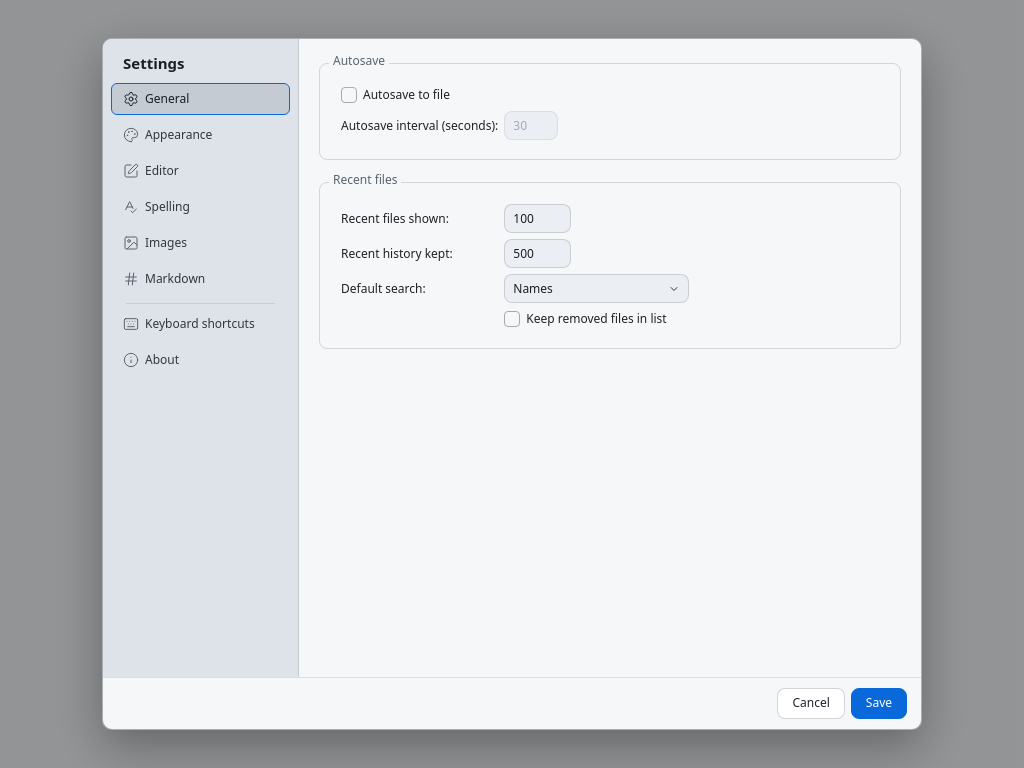
Scenario: SettingsDialogView pages › disables the fields that depend on an unchecked box
Check: the number field named "autosaveIntervalSeconds" is disabled, box [504,111,558,140]
Click the checkbox named "autosaveEnabled" at (349, 95), box [341,87,357,103]
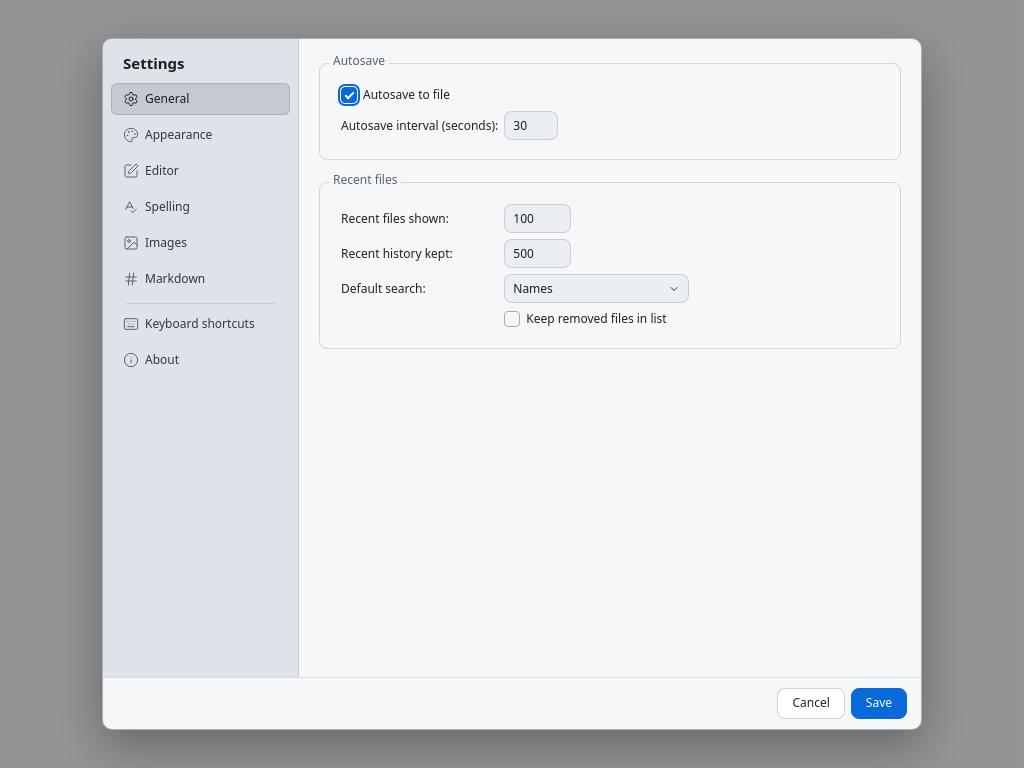
Check: the number field named "autosaveIntervalSeconds" is enabled, box [504,111,558,140]
